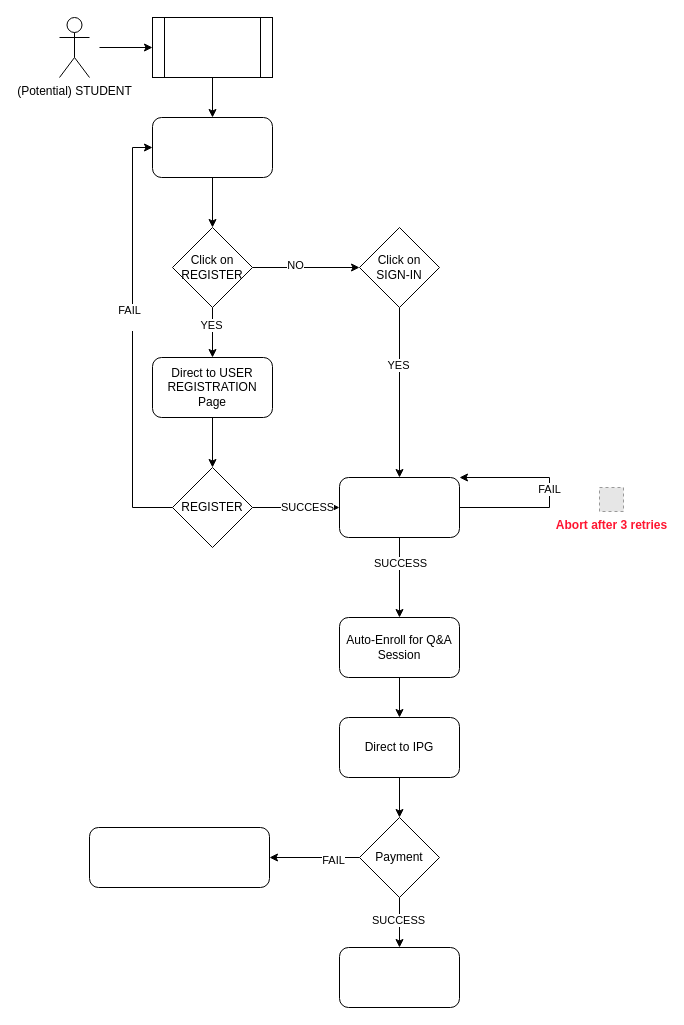
This 684x1025 diagram has some shape labels left out. Grey dashed boxes stand in for pictures. Each missing label, with the box of its shape:
Click on Marketing Link: (152, 16, 272, 78)
Direct to "My Courses" page + Show "Pending" under Payment Status: (88, 826, 270, 888)
Go to COURSE PAGE: (338, 946, 460, 1008)
Initiate SIGN-IN Process: (338, 476, 460, 538)
Landing Page for Q&A Session Enrollment (for STUDENT): (152, 116, 272, 178)
